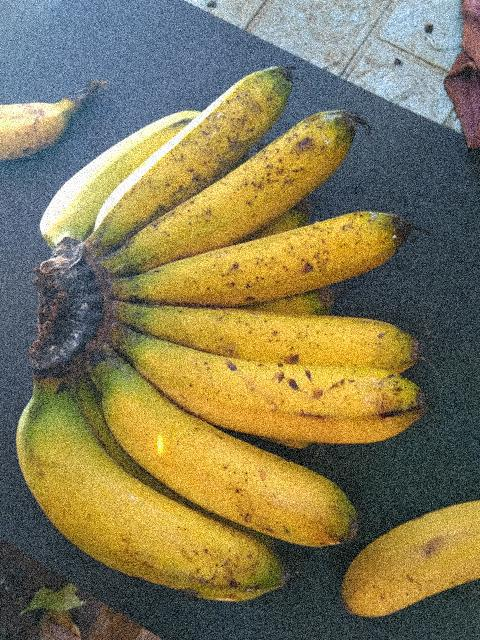freshripe: (17, 415, 249, 598)
ripe: (104, 353, 353, 550), (103, 245, 423, 374), (81, 65, 294, 242), (118, 334, 427, 439), (116, 209, 410, 300)
